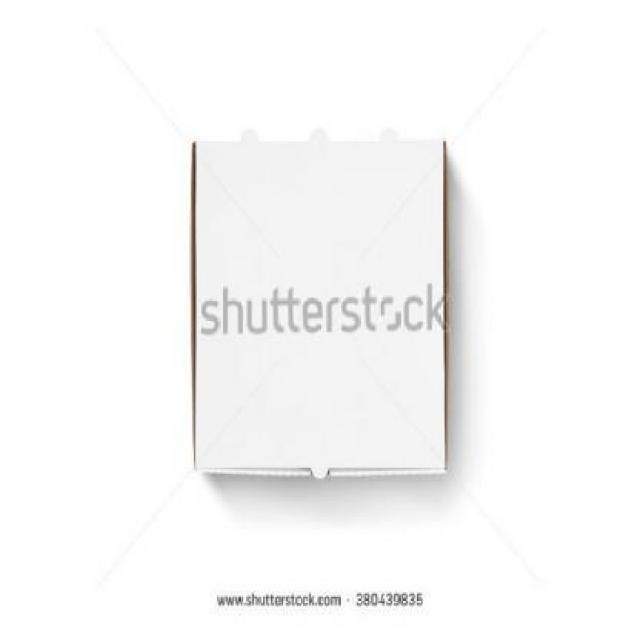box: (183, 125, 456, 492)
